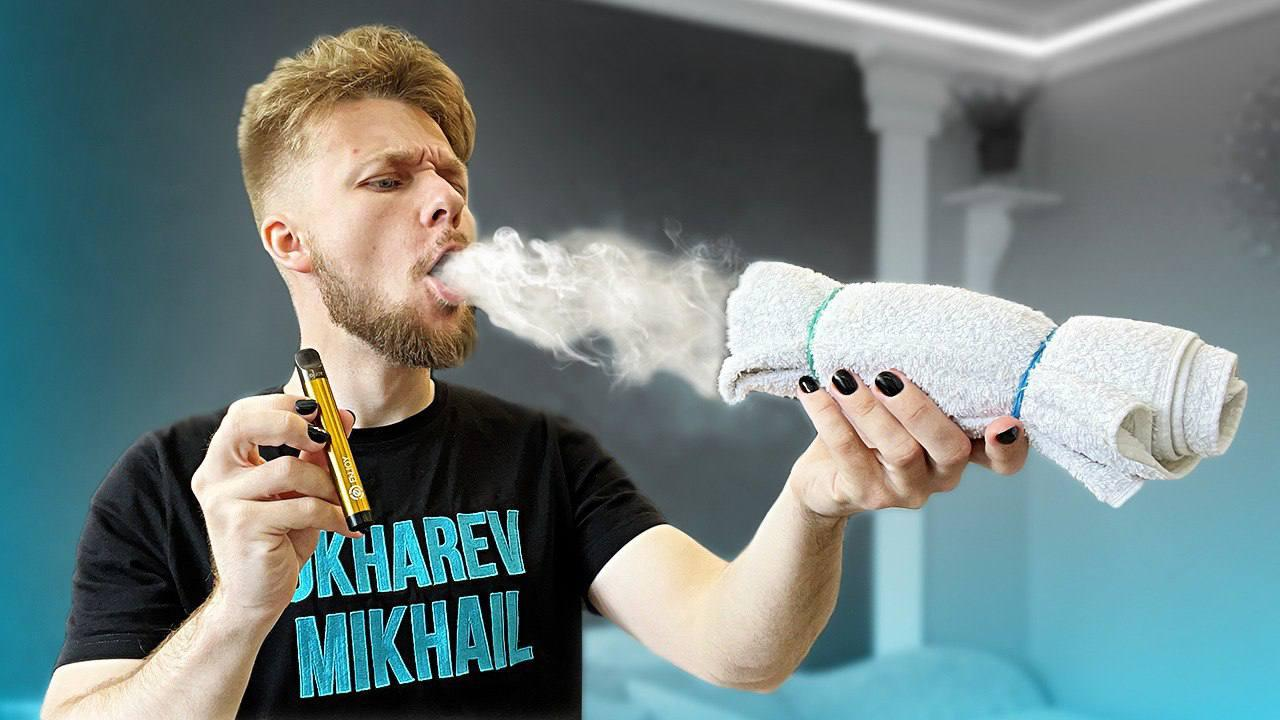Vape: (297, 348, 373, 532)
